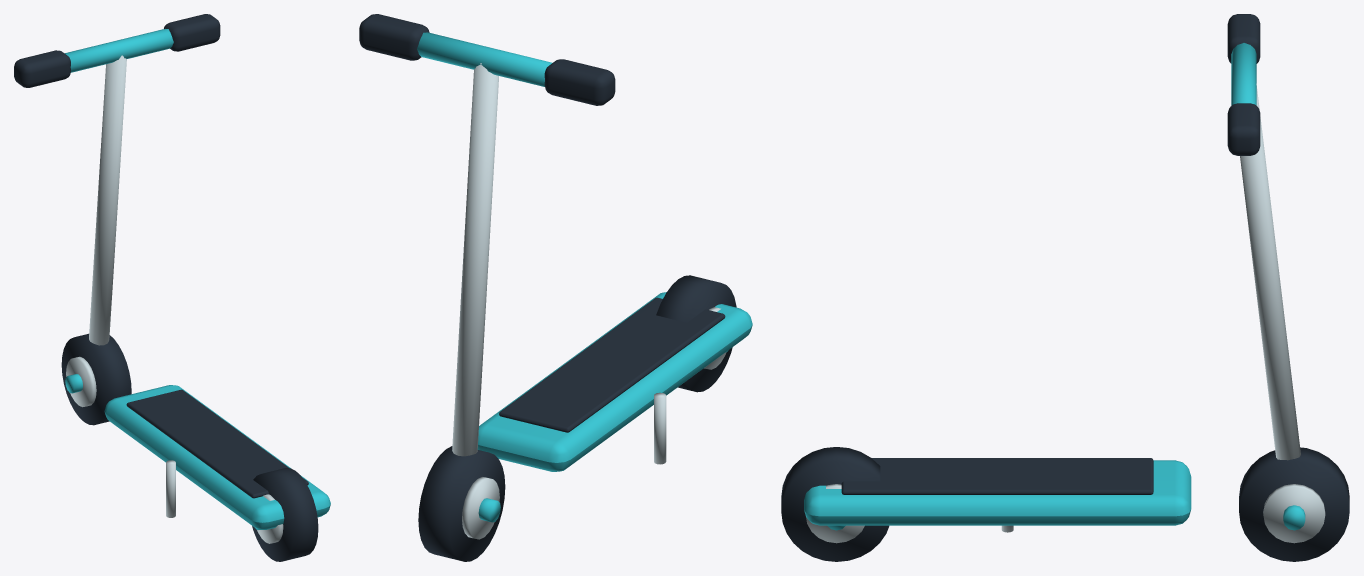
Rendered from kick_scooter.glb.
3 views of the same model, side by side, from view 1: azimuth 30°, elevation 25°; view 2: azimuth 150°, elevation 25°; view 3: azimuth 270°, elevation 25° (orthographic). The views are drawn at different scales.
Visible parts, largest first — view 1: Deck traction, Grip deck, Steering column, Scooter wheel tyre.001, Scooter wheel tyre, Handlebar, Soft handlebar grip.001, Soft handlebar grip, Scooter wheel rim.001, Kickstand; view 2: Deck traction, Grip deck, Steering column, Scooter wheel tyre, Handlebar, Scooter wheel tyre.001, Soft handlebar grip.001, Soft handlebar grip, Scooter wheel rim.001, Kickstand; view 3: Grip deck, Deck traction, Steering column, Scooter wheel tyre, Scooter wheel tyre.001, Scooter wheel rim, Soft handlebar grip, Handlebar, Soft handlebar grip.001, Scooter wheel rim.002.
Part boxes in pixels (x1=…): Deck traction: x1=126, y1=389, x2=308, y2=498; Grip deck: x1=104, y1=385, x2=330, y2=529; Steering column: x1=89, y1=55, x2=126, y2=345; Scooter wheel tyre.001: x1=252, y1=468, x2=318, y2=561; Scooter wheel tyre: x1=61, y1=333, x2=131, y2=425; Handlebar: x1=65, y1=28, x2=173, y2=72; Soft handlebar grip.001: x1=14, y1=50, x2=70, y2=87; Soft handlebar grip: x1=164, y1=14, x2=220, y2=51; Scooter wheel rim.001: x1=66, y1=356, x2=96, y2=407; Kickstand: x1=166, y1=460, x2=175, y2=517; Deck traction: x1=499, y1=297, x2=725, y2=432; Grip deck: x1=477, y1=292, x2=752, y2=471; Steering column: x1=452, y1=63, x2=498, y2=456; Scooter wheel tyre: x1=418, y1=446, x2=505, y2=561; Handlebar: x1=417, y1=32, x2=552, y2=86; Scooter wheel tyre.001: x1=656, y1=275, x2=736, y2=392; Soft handlebar grip.001: x1=544, y1=59, x2=615, y2=105; Soft handlebar grip: x1=359, y1=14, x2=429, y2=60; Scooter wheel rim.001: x1=462, y1=477, x2=499, y2=539; Kickstand: x1=654, y1=392, x2=666, y2=464; Grip deck: x1=804, y1=460, x2=1191, y2=525; Deck traction: x1=841, y1=458, x2=1153, y2=494; Steering column: x1=1240, y1=84, x2=1300, y2=460; Scooter wheel tyre: x1=1239, y1=447, x2=1349, y2=561; Scooter wheel tyre.001: x1=781, y1=447, x2=889, y2=561; Scooter wheel rim: x1=1263, y1=484, x2=1325, y2=543; Soft handlebar grip: x1=1227, y1=103, x2=1260, y2=155; Handlebar: x1=1231, y1=43, x2=1256, y2=105; Soft handlebar grip.001: x1=1227, y1=14, x2=1260, y2=63; Scooter wheel rim.002: x1=806, y1=484, x2=864, y2=543.
Size of the model in its own units: 0.56 by 1.06 by 1.13.
